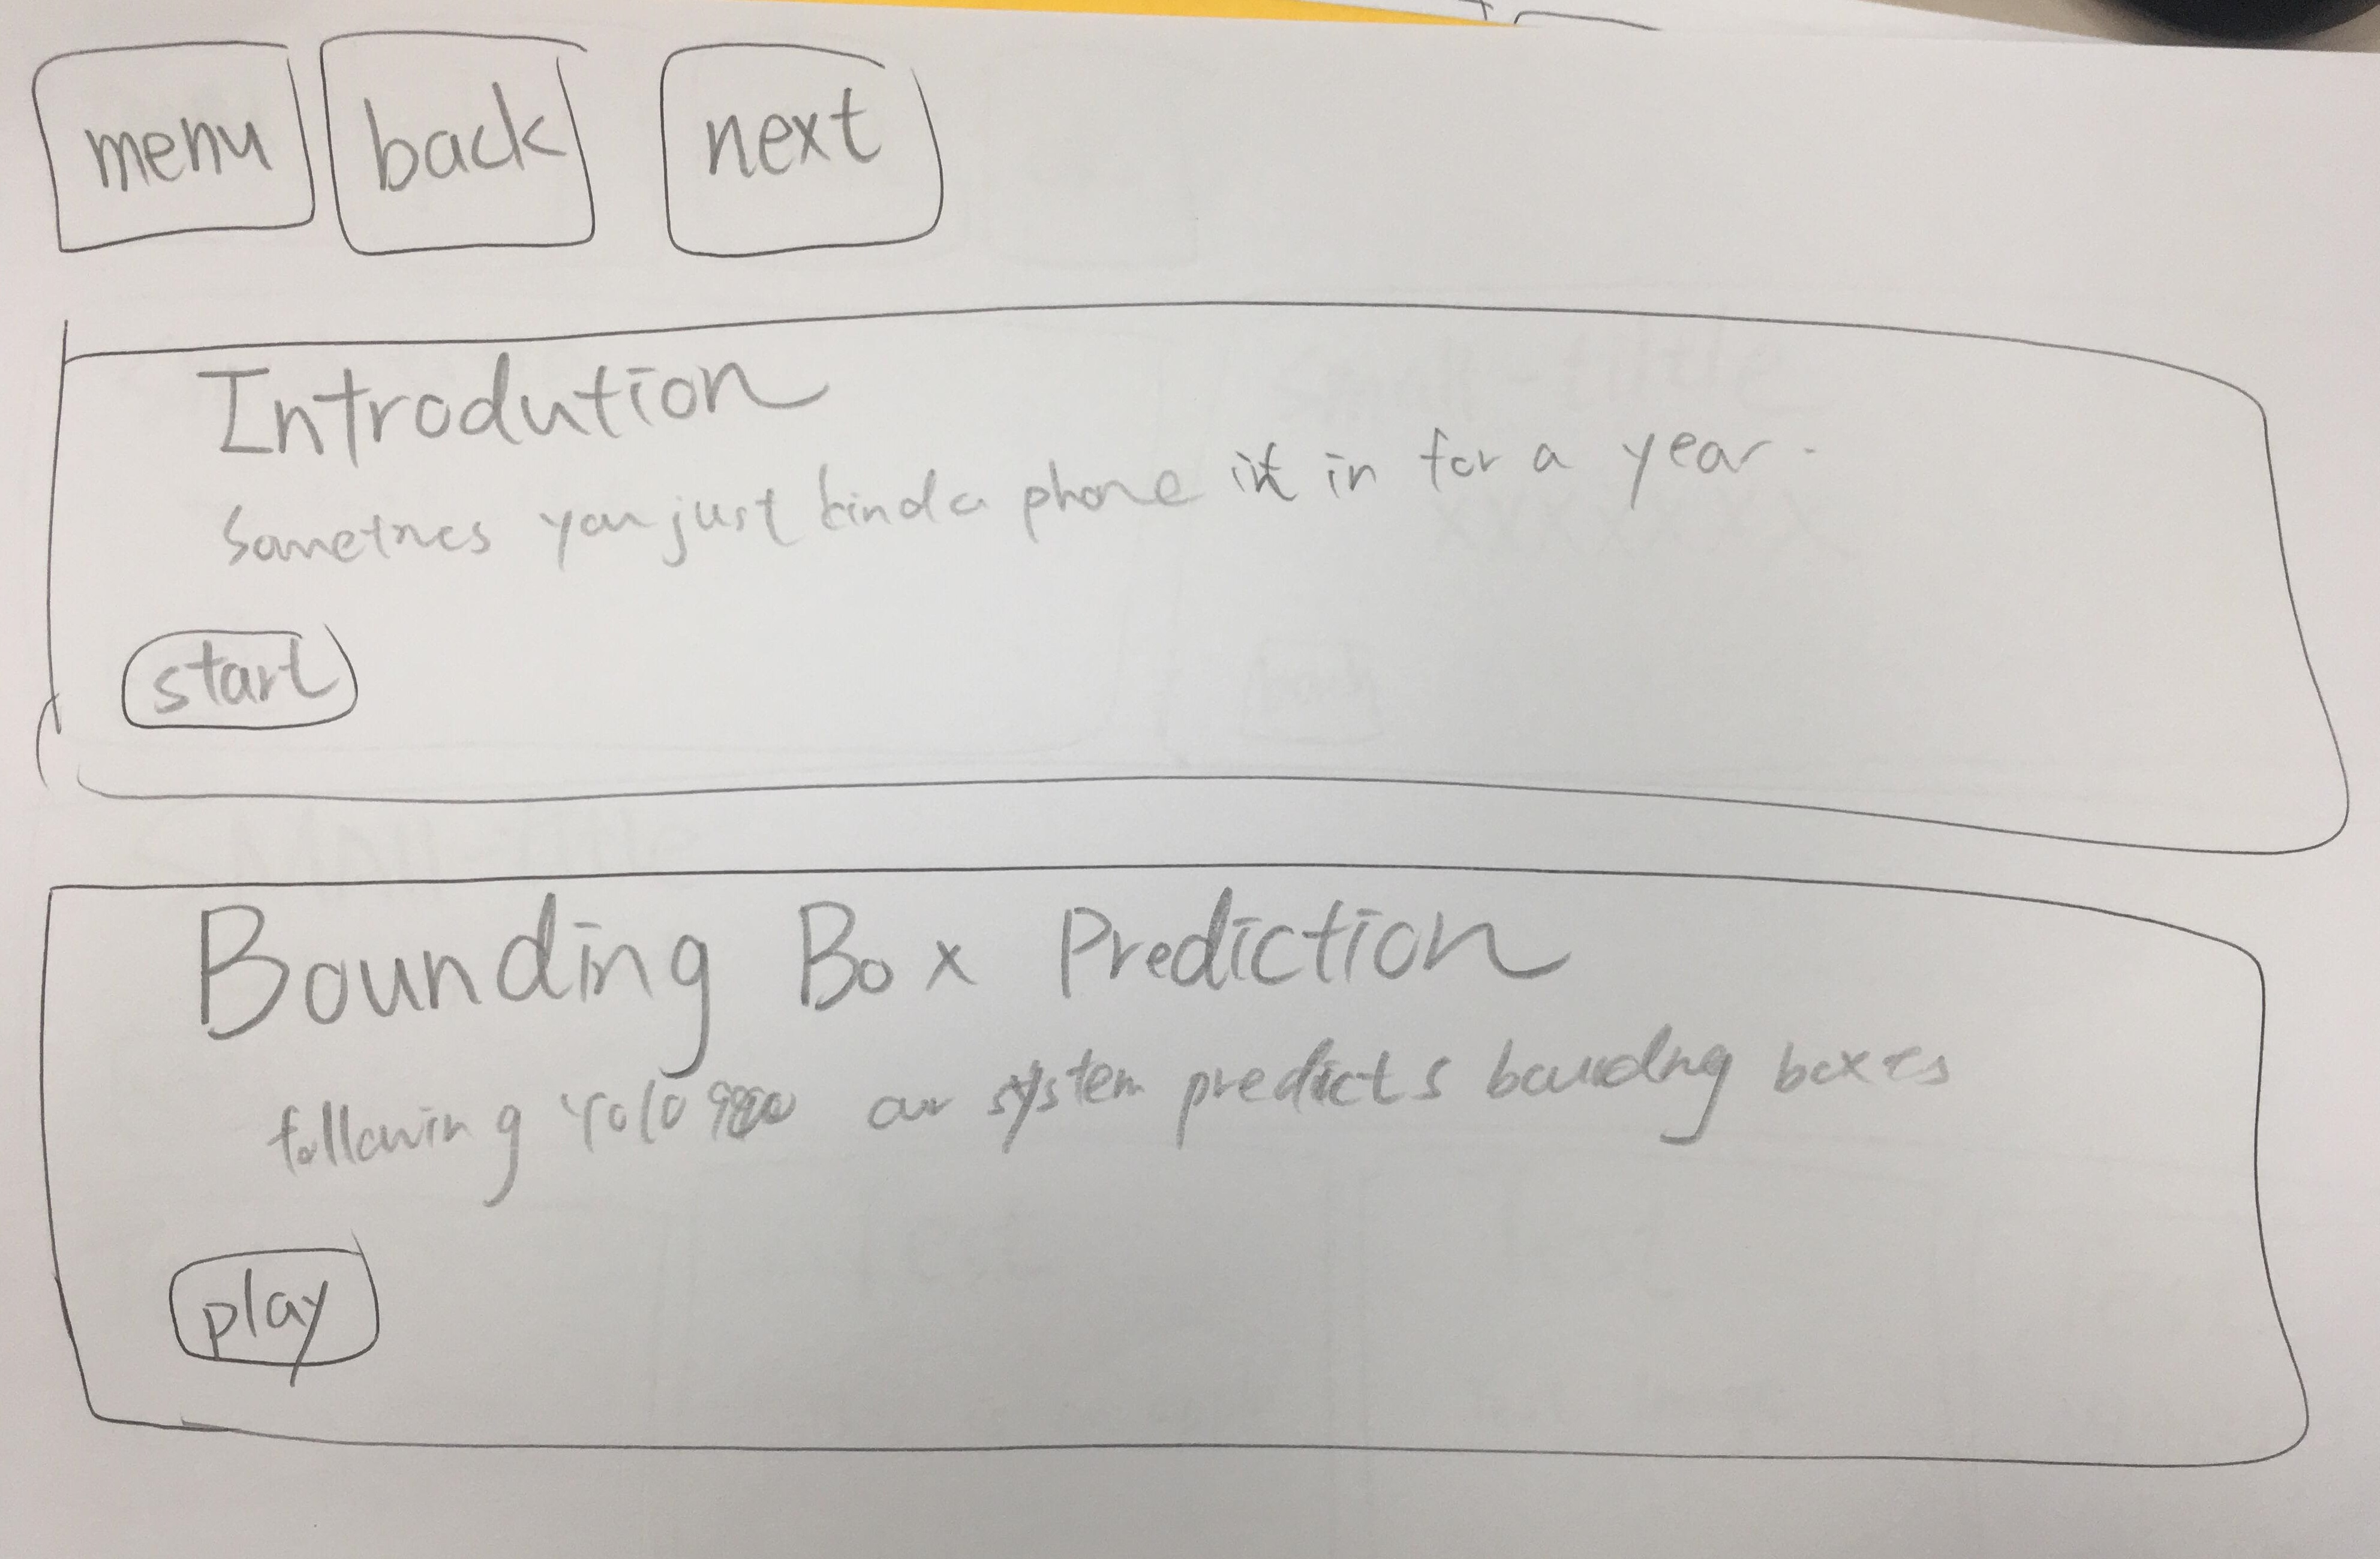back: (306, 9, 632, 282)
menu: (19, 23, 329, 277)
next: (637, 14, 952, 289)
play: (143, 1214, 402, 1401)
row: (12, 851, 2380, 1521), (12, 5, 2380, 313)
single: (16, 846, 2380, 1491), (16, 282, 2380, 875)
small-title: (186, 884, 1561, 1020), (188, 351, 811, 459)
start: (97, 612, 383, 767)
text: (249, 1016, 1949, 1174), (162, 425, 1823, 569)
